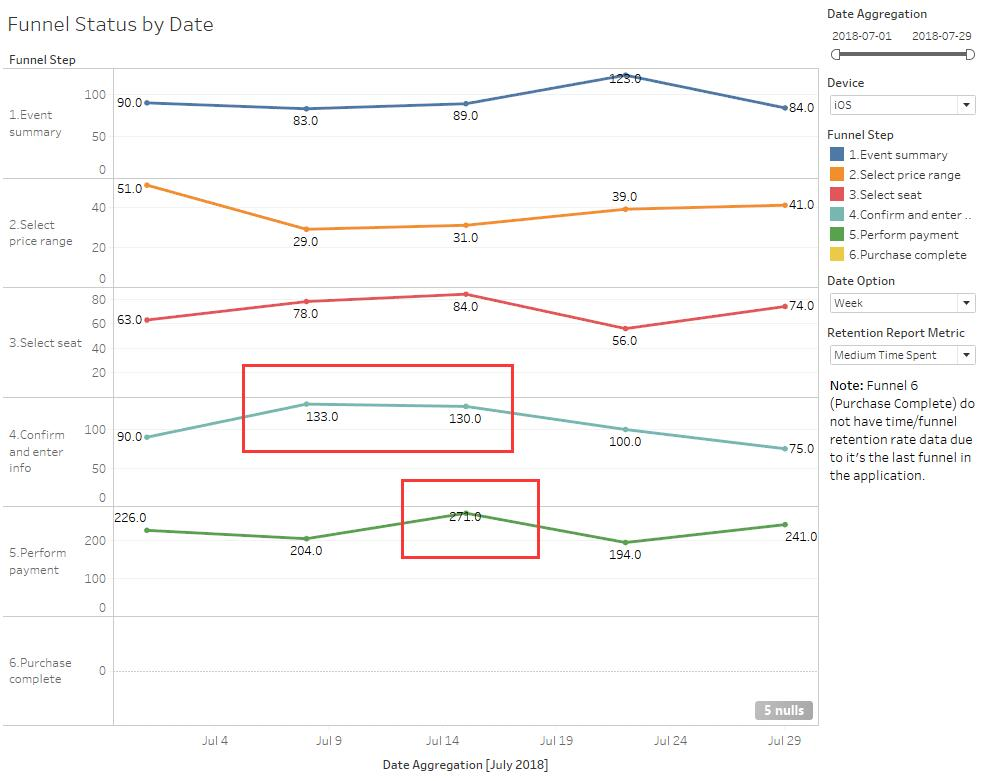

What the dashboard file says about the page in this screenshot:
{"tool":"tableau","page":{"name":"Funnel Status by Date","canvas":[1000,800],"ordinal":1},"visuals":[{"type":"worksheet","title":"Retention Rate by Date","mark":"Automatic","rows":["Funnel"],"cols":["Calculation_1519190848479875079"],"box":[8,8,824,784]},{"type":"filter","title":"Retention Rate by Date","param":"[federated.104fmxz02z8ek91d0op1l1si5i98].[none:Calculation_1519190848479875079:q","box":[832,8,160,69]},{"type":"filter","title":"Retention Rate by Date","param":"[federated.104fmxz02z8ek91d0op1l1si5i98].[none:OS:nk]","box":[832,77,160,52]},{"type":"legend","title":"Retention Rate by Date","param":"[federated.104fmxz02z8ek91d0op1l1si5i98].[none:Funnel:nk]","box":[832,129,160,146]},{"type":"parameter","param":"[Parameters].[Date Parameter]","box":[832,275,160,52]},{"type":"parameter","param":"[Parameters].[Date Option (copy)]","box":[832,327,160,52]},{"type":"text","box":[832,379,160,116]}]}

Visuals, with their boxes in screenshot pixels (x1, y1, x2, y2), scaled from the page's 1000x800 canvas onto the 991x781 screenshot:
"Retention Rate by Date" worksheet: box=[8, 8, 825, 773]
"Retention Rate by Date" filter: box=[825, 8, 983, 75]
"Retention Rate by Date" filter: box=[825, 75, 983, 126]
"Retention Rate by Date" legend: box=[825, 126, 983, 268]
parameter: box=[825, 268, 983, 319]
parameter: box=[825, 319, 983, 370]
text: box=[825, 370, 983, 483]
